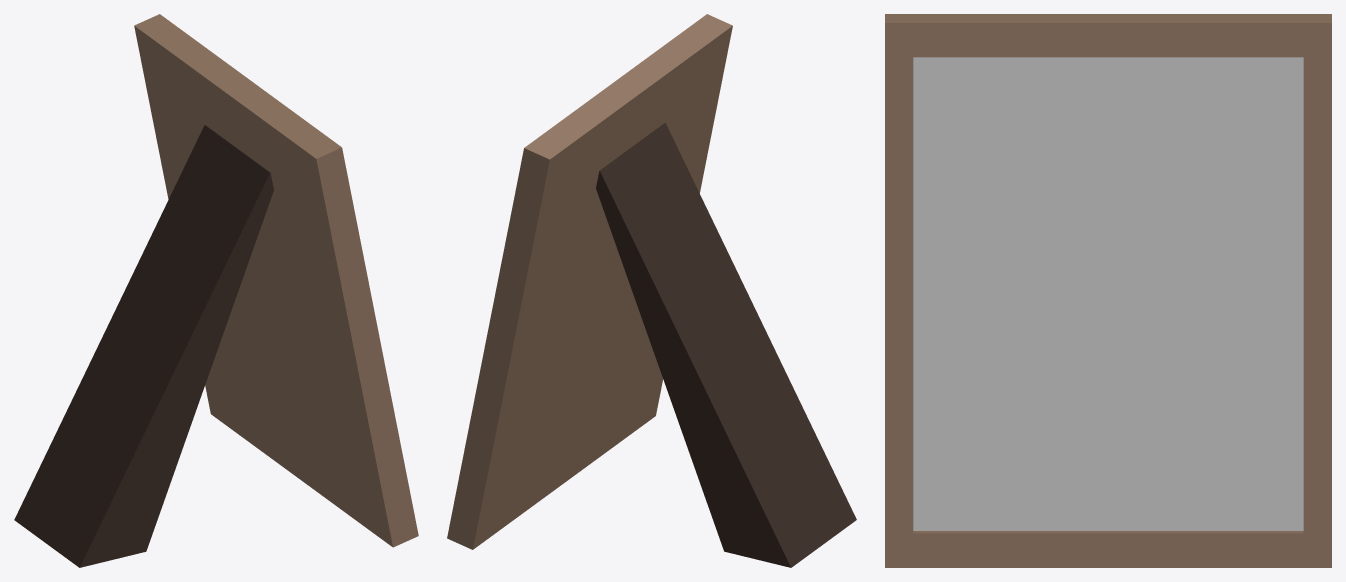
Rendered from Picture.fbx.
The picture shows the model from 3 angles, left to right: view 1: azimuth 30°, elevation 25°; view 2: azimuth 150°, elevation 25°; view 3: azimuth 270°, elevation 25°; orthographic projection. The views are drawn at different scales.
Parts seen in each view (by area): view 1: Picture; view 2: Picture; view 3: Picture.
Boxes of the visible parts, x1,y1,x2,y2 form: Picture: [14, 14, 418, 567]; Picture: [447, 14, 856, 567]; Picture: [885, 14, 1331, 567].
Size of the model in its own units: 46.69 by 65.16 by 52.17.
